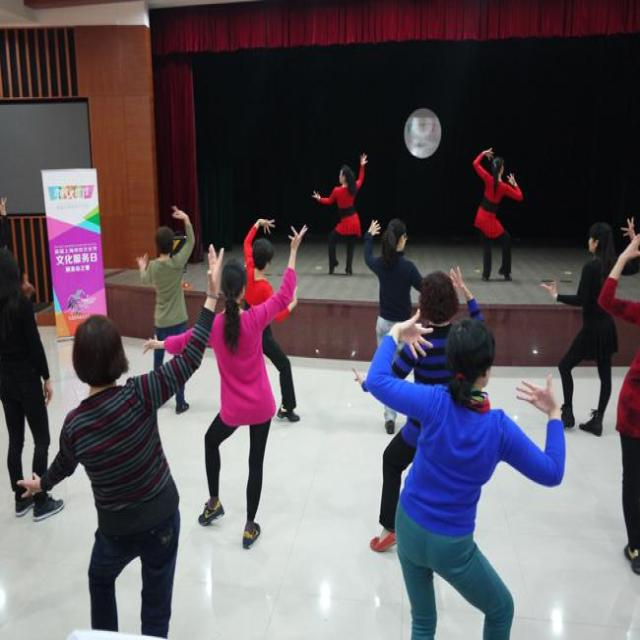non-fight: (16, 246, 223, 634), (362, 300, 561, 637), (144, 228, 302, 550), (538, 220, 632, 437), (1, 246, 59, 518), (363, 218, 423, 436), (240, 222, 300, 431), (137, 208, 196, 414), (312, 154, 370, 276), (471, 149, 521, 282)
